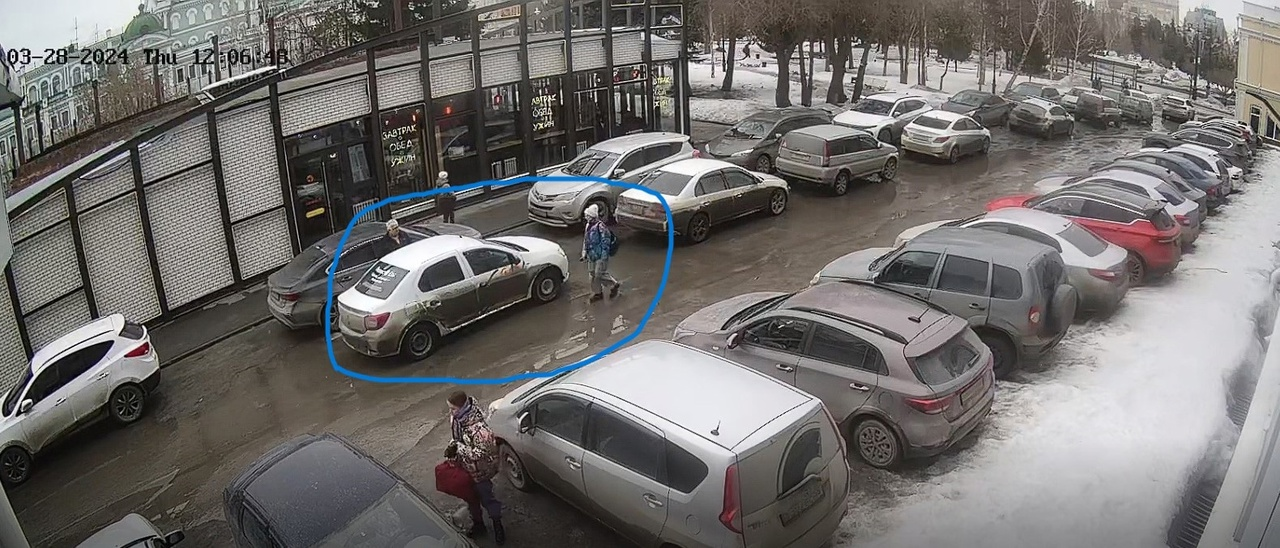Car: (488, 340, 851, 548), (671, 281, 995, 469), (812, 227, 1078, 377), (335, 234, 570, 360), (222, 434, 478, 548), (0, 314, 161, 485), (266, 219, 482, 331), (895, 208, 1130, 305), (985, 185, 1183, 282), (527, 132, 700, 228), (614, 159, 790, 243), (1033, 170, 1204, 245), (774, 125, 899, 195), (707, 107, 832, 172), (1091, 160, 1208, 219), (1113, 150, 1226, 206), (833, 93, 933, 146), (901, 110, 992, 163), (1142, 128, 1250, 170), (75, 513, 185, 548), (1166, 147, 1233, 194), (1183, 144, 1245, 190), (1007, 98, 1076, 139), (939, 90, 1012, 127), (1178, 122, 1253, 151), (1076, 92, 1121, 127), (1003, 81, 1061, 103), (1186, 118, 1254, 136), (1220, 132, 1254, 165), (1120, 96, 1155, 126), (1059, 86, 1099, 112), (1160, 95, 1197, 123), (1101, 90, 1124, 103), (1122, 88, 1149, 98)
